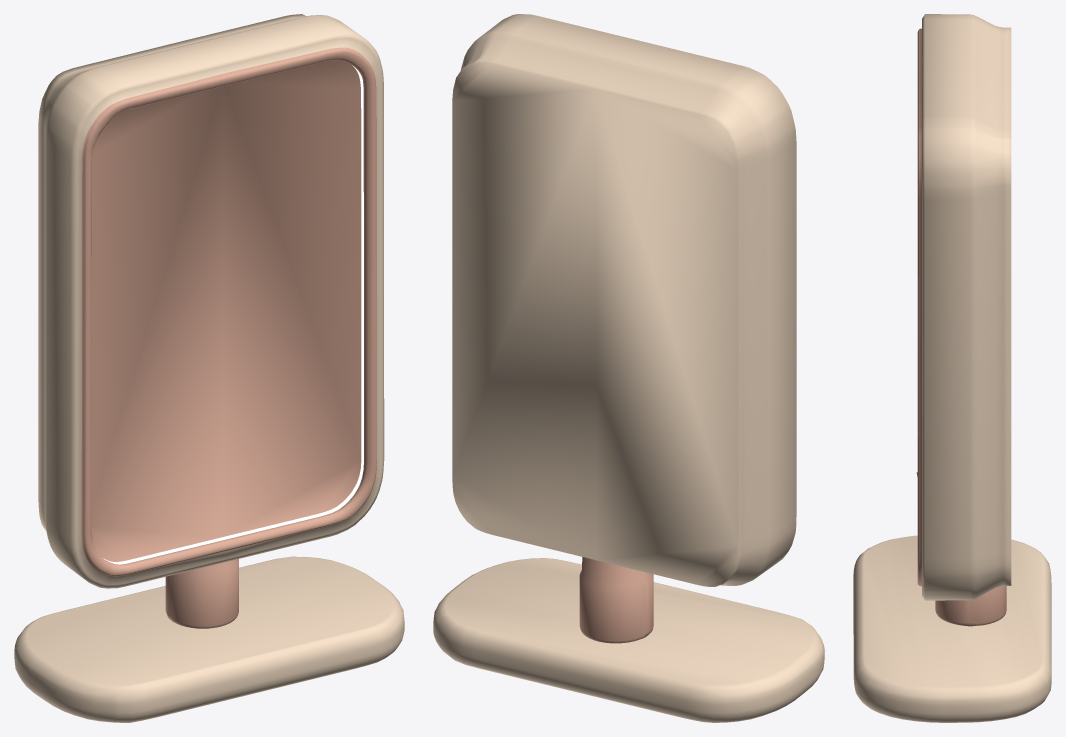
Rendered from panel.glb.
The picture shows the model from 3 angles, left to right: view 1: azimuth 30°, elevation 25°; view 2: azimuth 150°, elevation 25°; view 3: azimuth 270°, elevation 25°; orthographic projection. The views are drawn at different scales.
Visible parts, largest first — view 1: panel; view 2: panel; view 3: panel.
Boxes of the visible parts, box(x1,y1,x2,y2) form: panel: box(14, 14, 404, 722); panel: box(433, 14, 824, 722); panel: box(853, 14, 1051, 722).
Size of the model in its own units: 3.45 by 5.74 by 1.78.
Materials: 3 (2 with a texture image).
